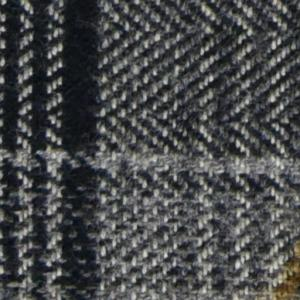Oil Stain: (256, 239, 300, 300)
